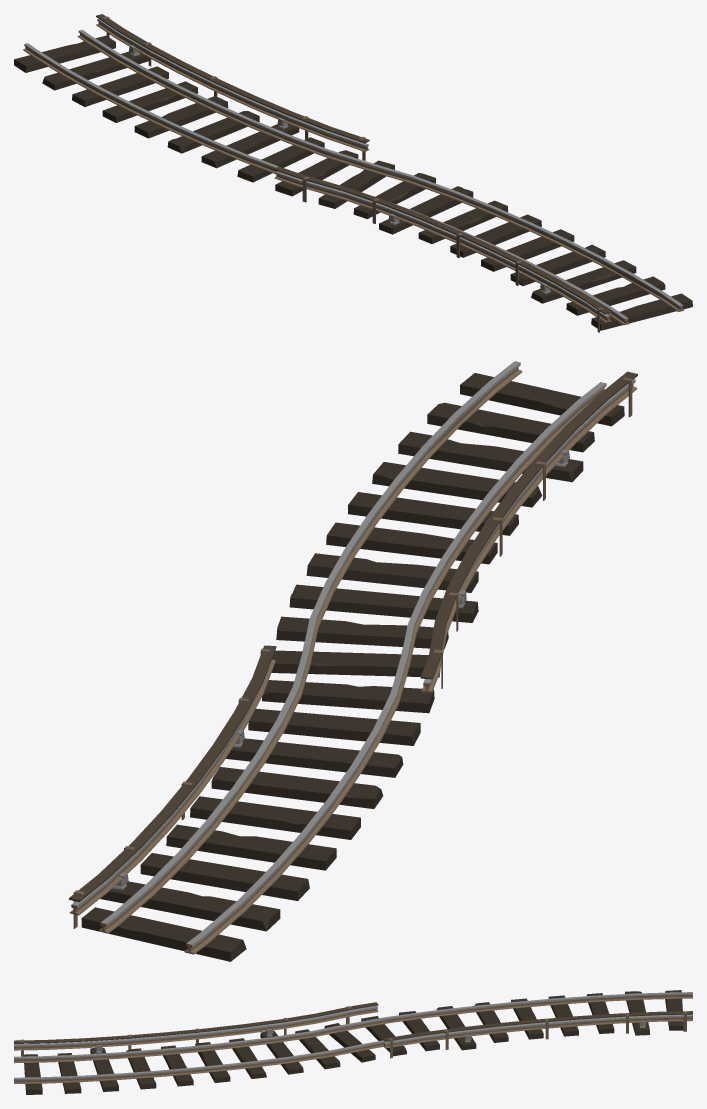
Rendered from SW_ENV_Track_SingleJog_20m_Left-Right.fbx.
3 renders of one model, top to bottom at view 1: azimuth 30°, elevation 25°; view 2: azimuth 150°, elevation 25°; view 3: azimuth 270°, elevation 25°, orthographic. The views are drawn at different scales.
Parts seen in each view (by area): view 1: SW_ENV_Track_SingleJog_20m_Left-Right; view 2: SW_ENV_Track_SingleJog_20m_Left-Right; view 3: SW_ENV_Track_SingleJog_20m_Left-Right.
Boxes of the visible parts, x1,y1,x2,y2 form: SW_ENV_Track_SingleJog_20m_Left-Right: [14, 14, 692, 332]; SW_ENV_Track_SingleJog_20m_Left-Right: [69, 361, 637, 961]; SW_ENV_Track_SingleJog_20m_Left-Right: [14, 990, 692, 1094].
Size of the model in its own units: 699 by 58.74 by 2000.
